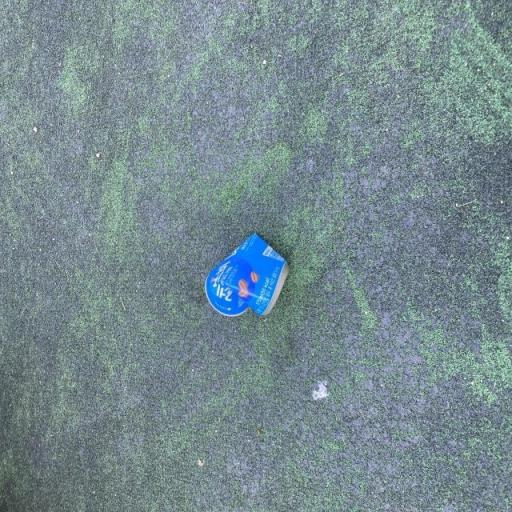metal: (192, 225, 320, 365)
